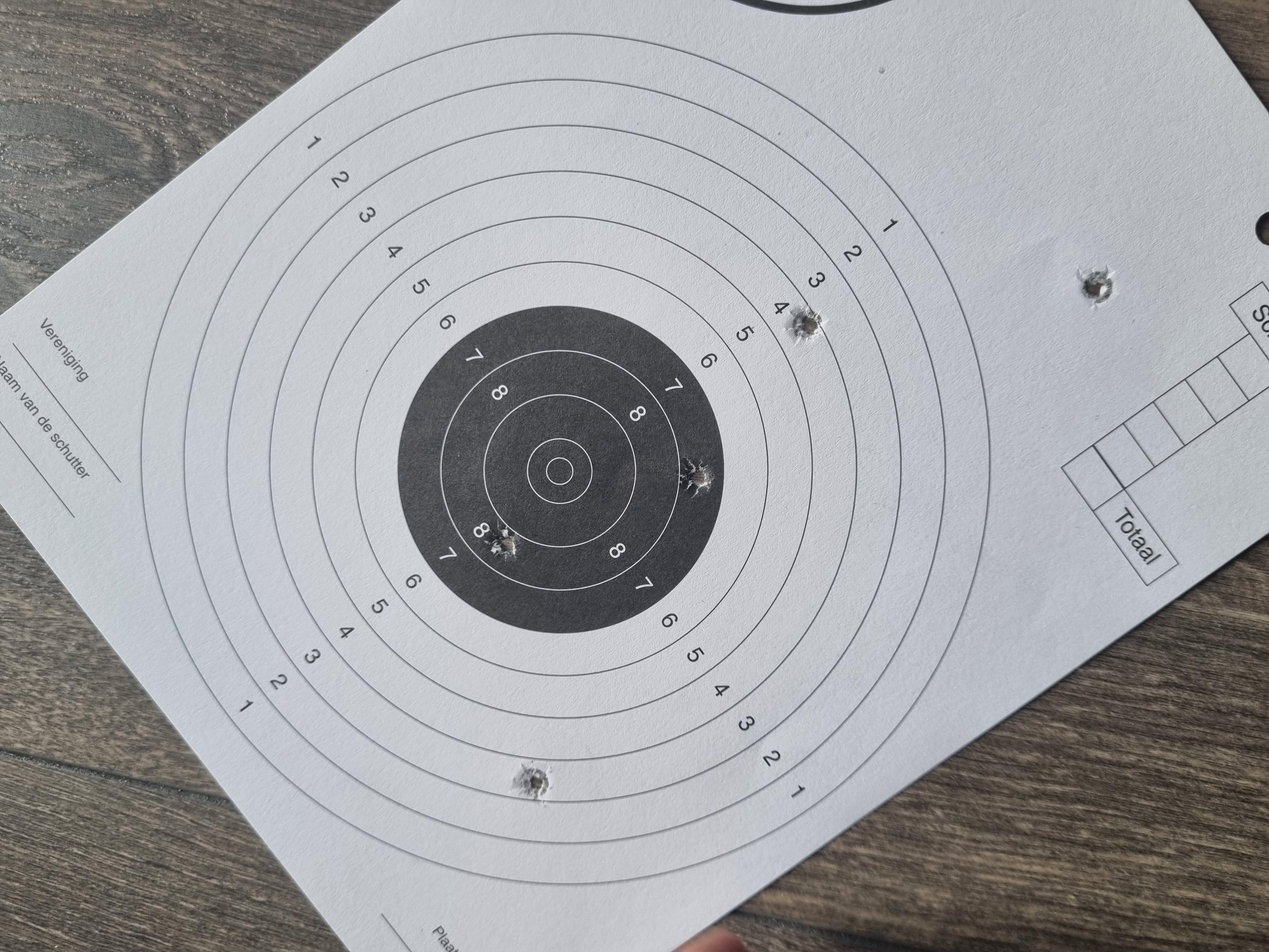hole: (605, 507, 657, 536), (863, 807, 914, 835), (201, 384, 250, 413), (814, 590, 859, 617), (524, 367, 565, 388)
